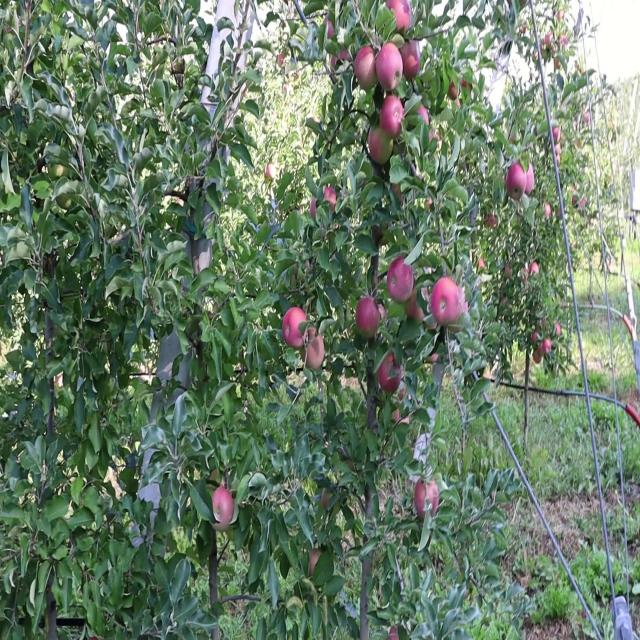apple: (376, 42, 403, 92), (388, 255, 415, 304), (432, 277, 456, 325), (284, 305, 308, 348), (380, 99, 405, 139), (212, 490, 236, 530), (356, 298, 380, 338), (380, 355, 403, 395), (356, 49, 377, 92), (392, 383, 412, 427), (368, 127, 391, 165), (416, 483, 440, 519), (388, 0, 412, 34), (408, 291, 429, 322), (404, 42, 420, 82), (308, 334, 325, 370), (508, 163, 524, 201), (453, 291, 468, 325), (308, 547, 323, 578), (524, 163, 536, 197), (324, 184, 337, 213), (416, 106, 431, 130), (432, 127, 442, 149), (324, 21, 336, 39), (532, 348, 543, 363), (324, 490, 331, 512), (312, 199, 318, 220), (544, 341, 552, 356), (56, 376, 64, 391), (380, 305, 387, 320), (532, 263, 540, 276), (628, 405, 634, 418), (532, 334, 540, 343), (556, 327, 562, 334), (508, 270, 512, 277)
